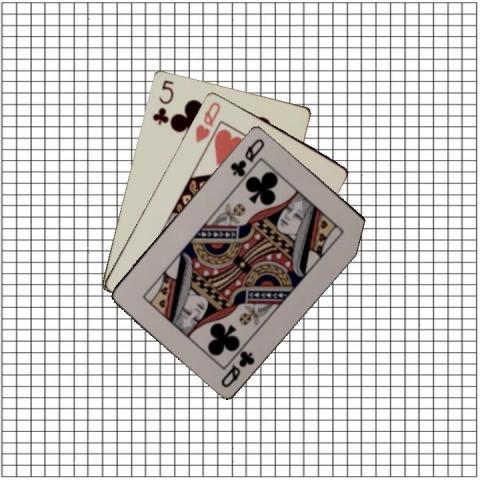5c: (149, 77, 175, 126)
Qc: (227, 135, 266, 178), (218, 347, 256, 389)
Qh: (192, 98, 222, 144)
